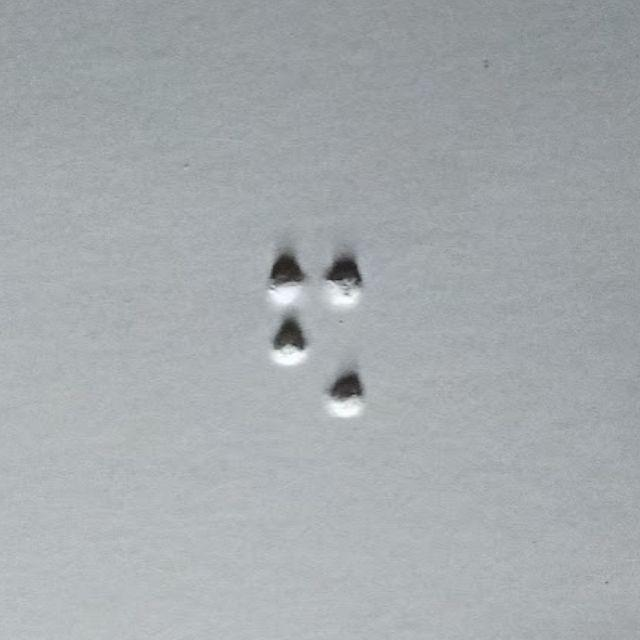naging: (268, 251, 364, 417)
